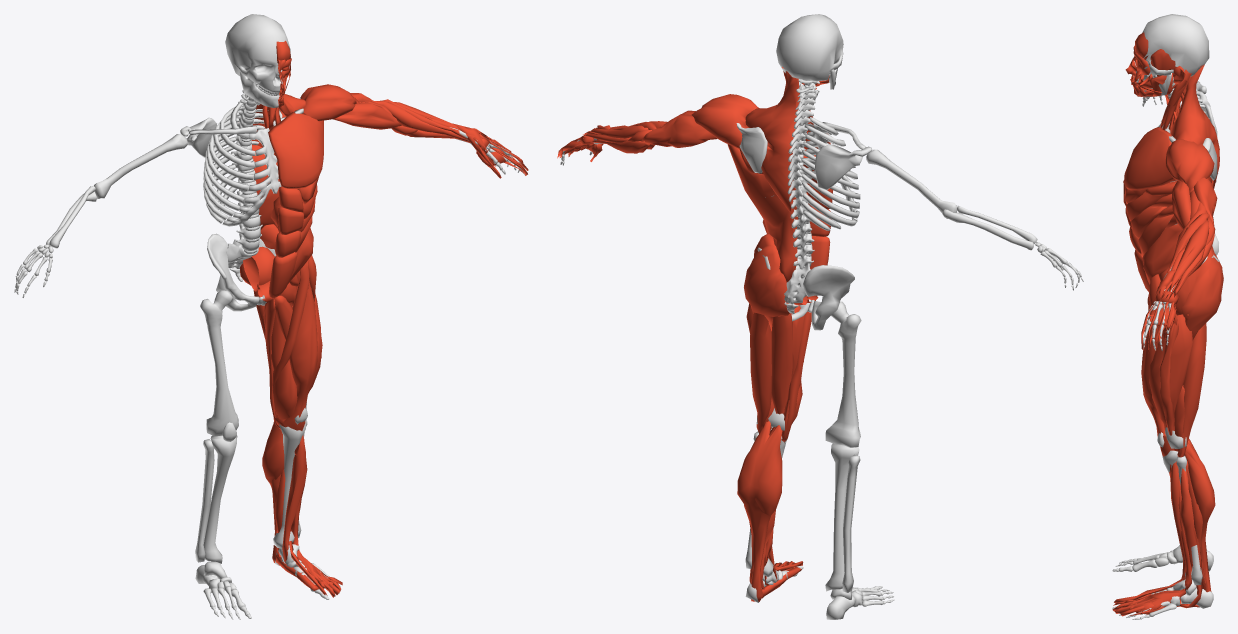
File: skeleton-muscle.glb
3 renders of one model, left to right at view 1: azimuth 30°, elevation 25°; view 2: azimuth 150°, elevation 25°; view 3: azimuth 270°, elevation 25°, orthographic. The views are drawn at different scales.
Visible parts, largest first — view 1: Muscles, Skeleton; view 2: Skeleton, Muscles; view 3: Muscles, Skeleton.
Part boxes in pixels (<box>): Muscles: <box>240,40,528,597</box>; Skeleton: <box>14,14,525,619</box>; Skeleton: <box>560,14,1083,619</box>; Muscles: <box>557,67,833,601</box>; Muscles: <box>1112,32,1223,616</box>; Skeleton: <box>1112,14,1219,619</box>.
Size of the model in its own units: 8.34 by 8.93 by 1.57.
